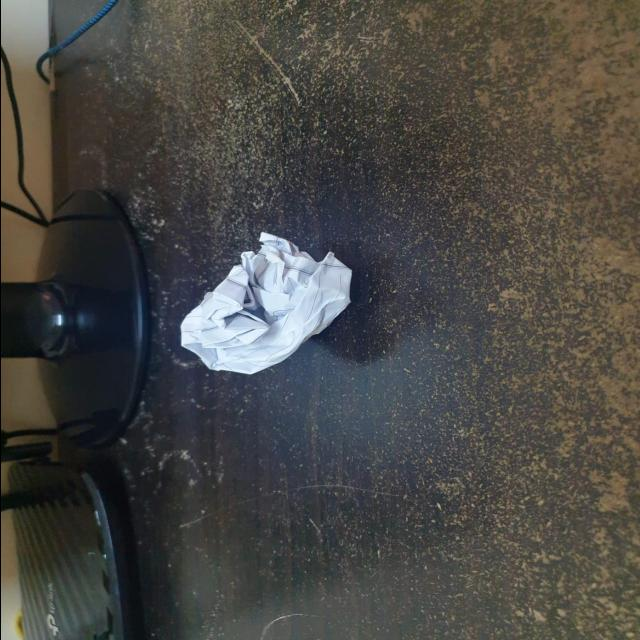kertas: (167, 220, 356, 376)
